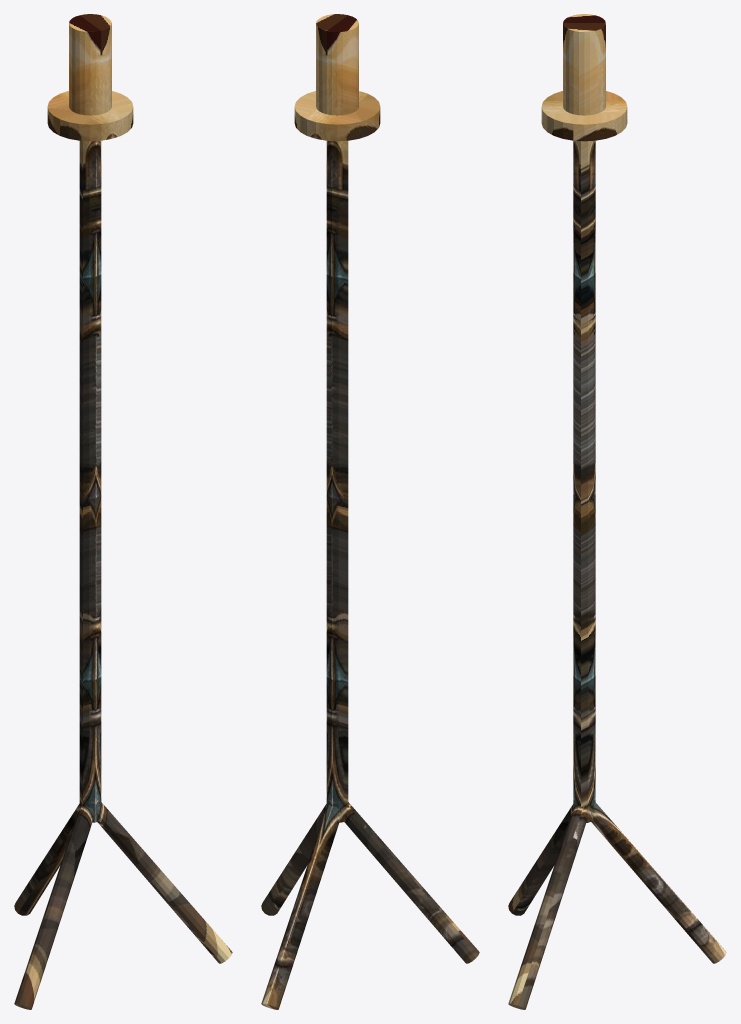
Rendered from v3-chapel-candle-stand.glb.
3 renders of one model, left to right at view 1: azimuth 30°, elevation 25°; view 2: azimuth 150°, elevation 25°; view 3: azimuth 270°, elevation 25°, orthographic.
Parts seen in each view (by area): view 1: v3-chapel-candle-stand; view 2: v3-chapel-candle-stand; view 3: v3-chapel-candle-stand.
Part boxes in pixels (<box>): v3-chapel-candle-stand: <box>14,14,232,1009</box>; v3-chapel-candle-stand: <box>261,14,479,1009</box>; v3-chapel-candle-stand: <box>508,14,726,1009</box>.
Bounding box in the file's own units: 0.4062 × 1.69 × 0.356.
Materials: 1 (1 with a texture image).
